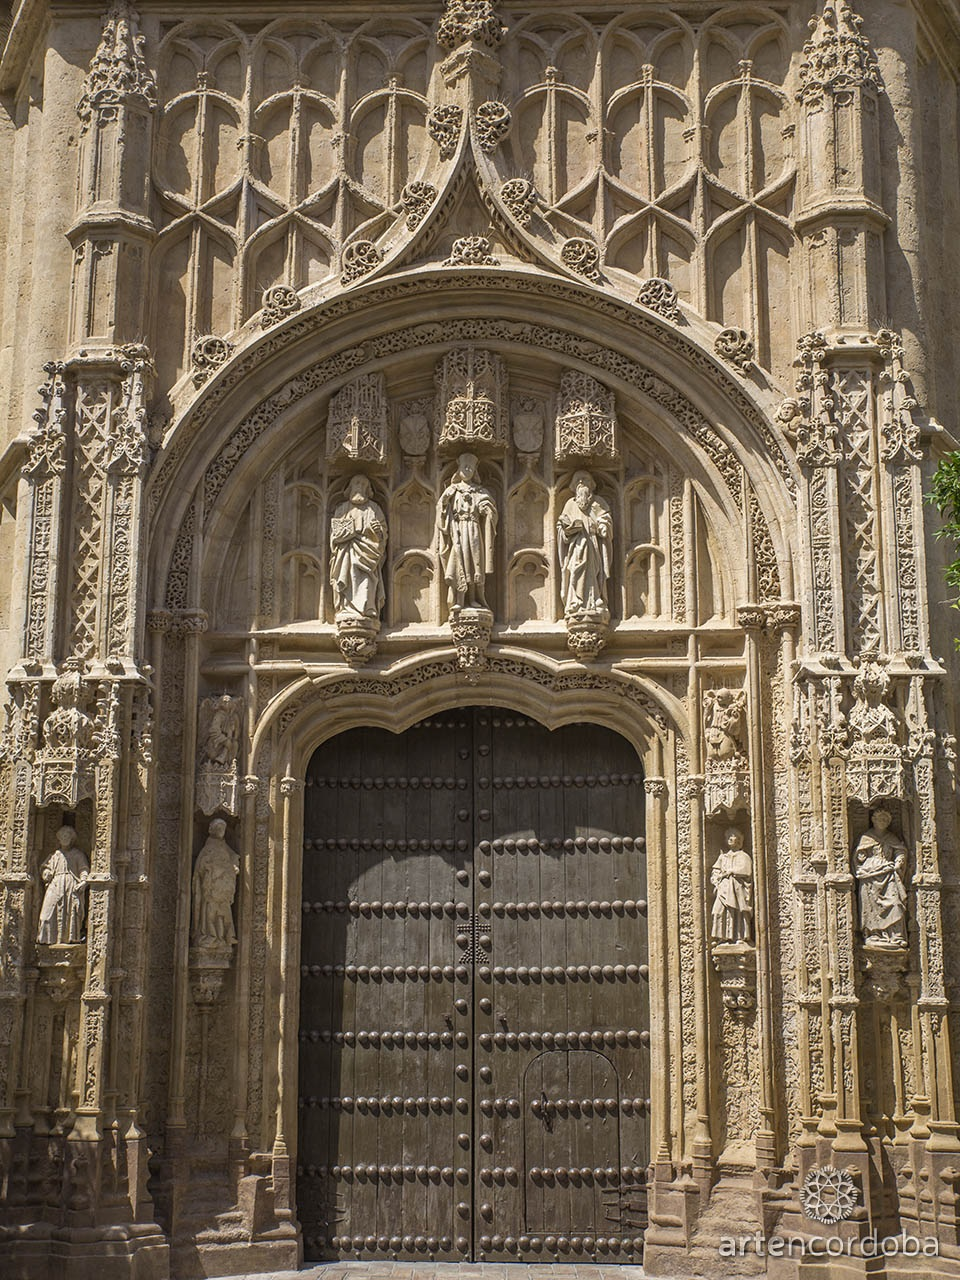arco-conopial: (223, 101, 728, 358)
arco-trilobulado: (281, 663, 665, 797)
